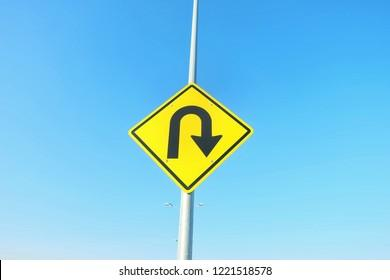Right Hair Pin Bend: (104, 80, 280, 200)
